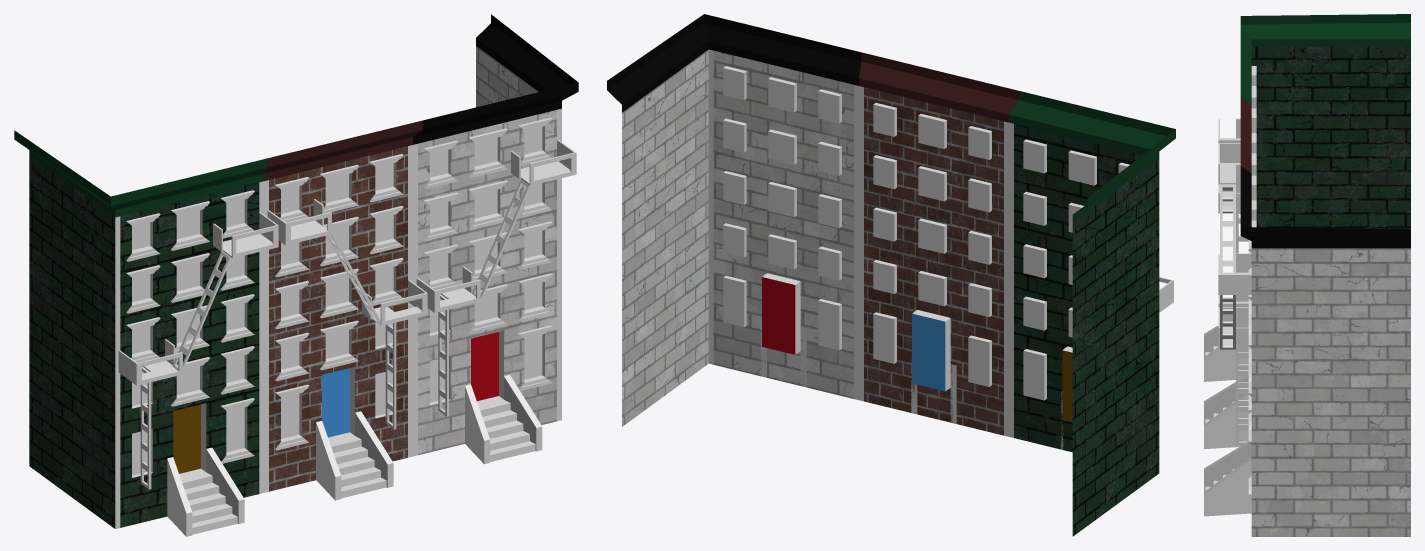
File: Terrace Buildings.fbx
The picture shows the model from 3 angles, left to right: view 1: azimuth 30°, elevation 25°; view 2: azimuth 150°, elevation 25°; view 3: azimuth 270°, elevation 25°; orthographic projection. The views are drawn at different scales.
Parts seen in each view (by area): view 1: Terrace_Left, Terrace_Right, Terrace_Middle, Terrace_Window_Decor, Terrace_Roof, Terrace_Front_Railing, Terrace_Railings, Terrace_Front_Stairs, Terrace Ladders, Terrace_Railing_Floors; view 2: Terrace_Right, Terrace_Left, Terrace_Middle, Terrace_Roof, Terrace_Front_Railing; view 3: Terrace_Right, Terrace_Left, Terrace_Roof, Terrace_Front_Railing, Terrace_Railings, Terrace Ladders, Terrace_Railing_Floors, Terrace_Window_Decor, Terrace_Middle.
Part boxes in pixels (x1=…): Terrace_Left: x1=29, y1=155, x2=268, y2=528; Terrace_Right: x1=408, y1=46, x2=561, y2=457; Terrace_Middle: x1=269, y1=146, x2=407, y2=491; Terrace_Window_Decor: x1=126, y1=117, x2=552, y2=463; Terrace_Roof: x1=14, y1=14, x2=578, y2=217; Terrace_Front_Railing: x1=167, y1=375, x2=542, y2=536; Terrace_Railings: x1=118, y1=139, x2=576, y2=385; Terrace_Front_Stairs: x1=181, y1=400, x2=535, y2=534; Terrace Ladders: x1=140, y1=179, x2=530, y2=489; Terrace_Railing_Floors: x1=142, y1=161, x2=570, y2=379; Terrace_Right: x1=622, y1=49, x2=863, y2=426; Terrace_Left: x1=1004, y1=121, x2=1159, y2=536; Terrace_Middle: x1=864, y1=87, x2=1003, y2=435; Terrace_Roof: x1=607, y1=14, x2=1175, y2=221; Terrace_Front_Railing: x1=761, y1=318, x2=1063, y2=449; Terrace_Right: x1=1251, y1=200, x2=1410, y2=536; Terrace_Left: x1=1251, y1=46, x2=1410, y2=229; Terrace_Roof: x1=1240, y1=14, x2=1410, y2=248; Terrace_Front_Railing: x1=1204, y1=325, x2=1251, y2=516; Terrace_Railings: x1=1218, y1=118, x2=1251, y2=348; Terrace Ladders: x1=1220, y1=138, x2=1251, y2=445; Terrace_Railing_Floors: x1=1220, y1=138, x2=1248, y2=345; Terrace_Window_Decor: x1=1248, y1=240, x2=1251, y2=494; Terrace_Middle: x1=1251, y1=133, x2=1256, y2=200.
Size of the model in its own units: 3200 by 2180 by 1300.
